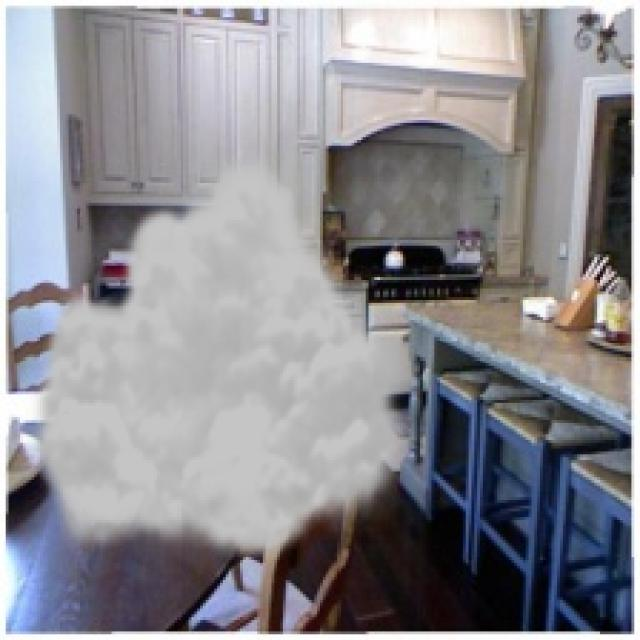smoke: (26, 146, 420, 563)
